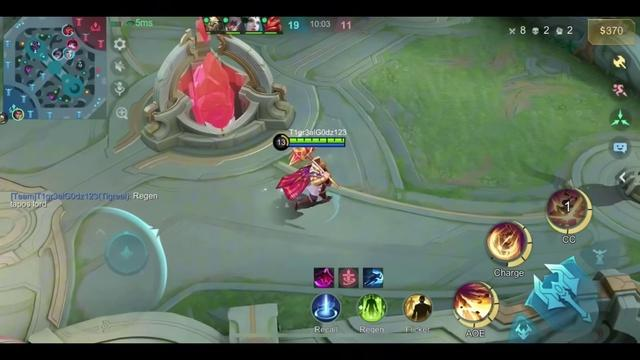hp_self: (289, 138, 345, 143)
tron_self: (100, 8, 296, 34)
